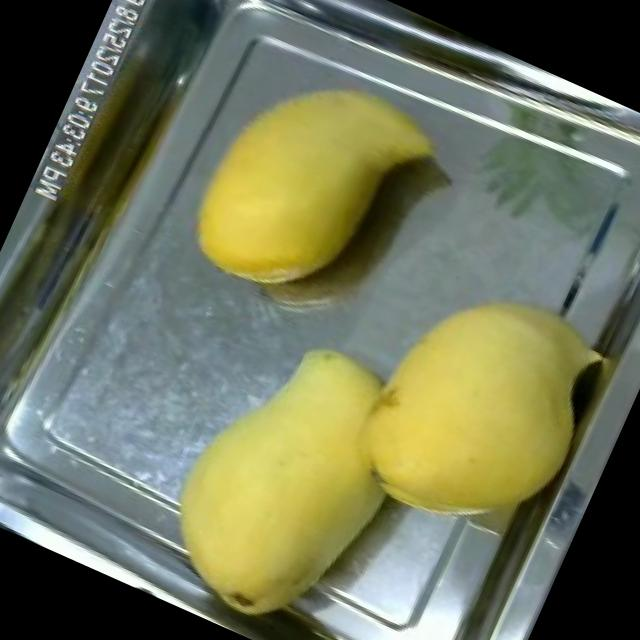fruit: (131, 294, 453, 640), (325, 240, 634, 575), (160, 29, 432, 333)
